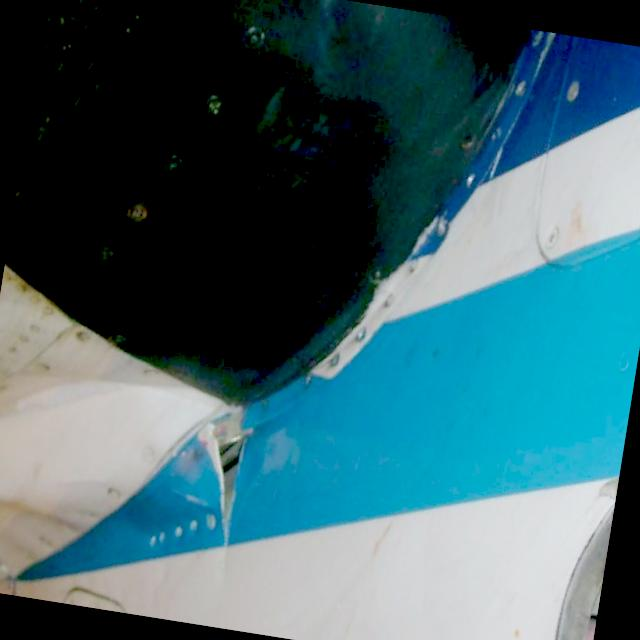crack: (179, 409, 257, 566)
